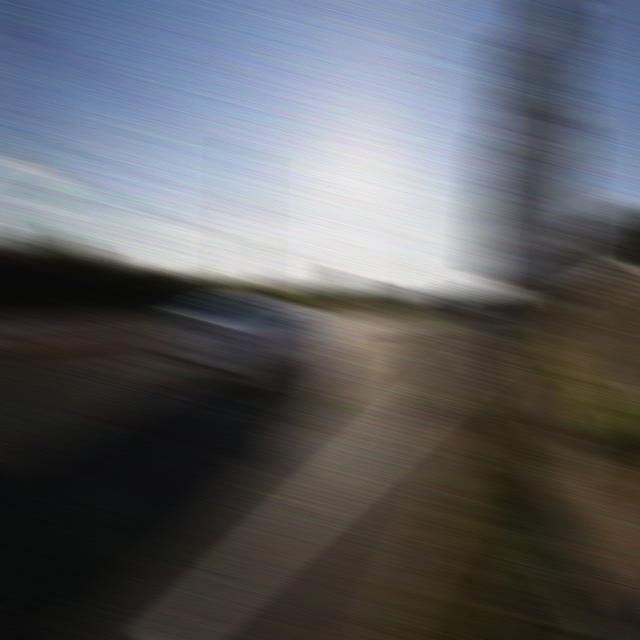speedLimit35: (489, 8, 582, 135)
